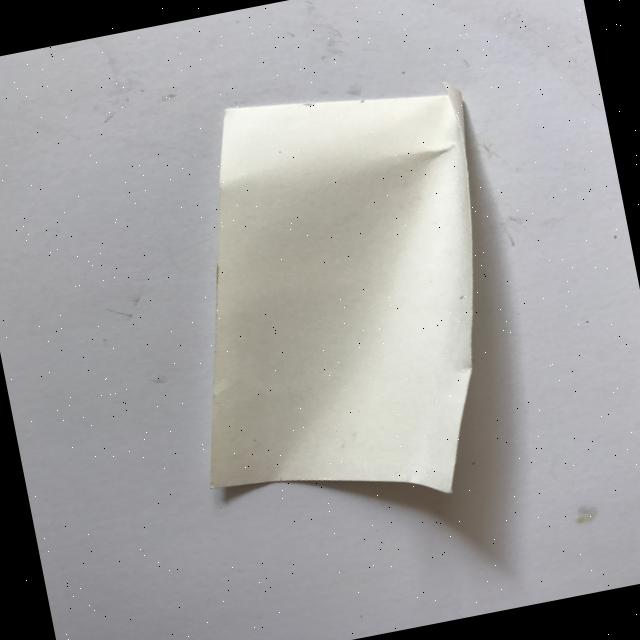paper: (138, 63, 536, 539)
